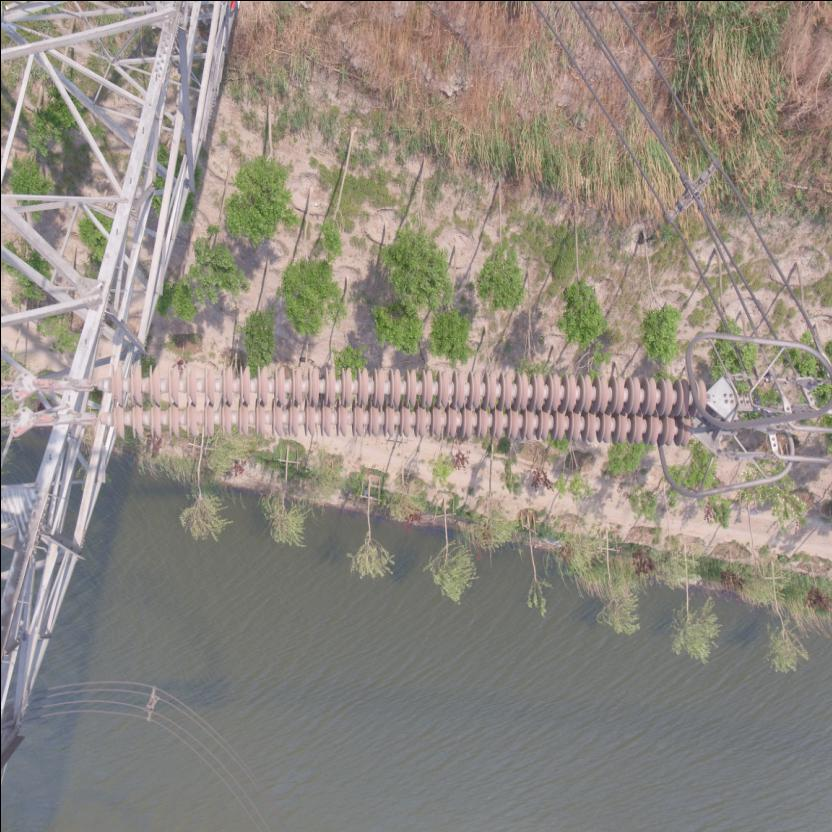insulator: (61, 358, 715, 455)
